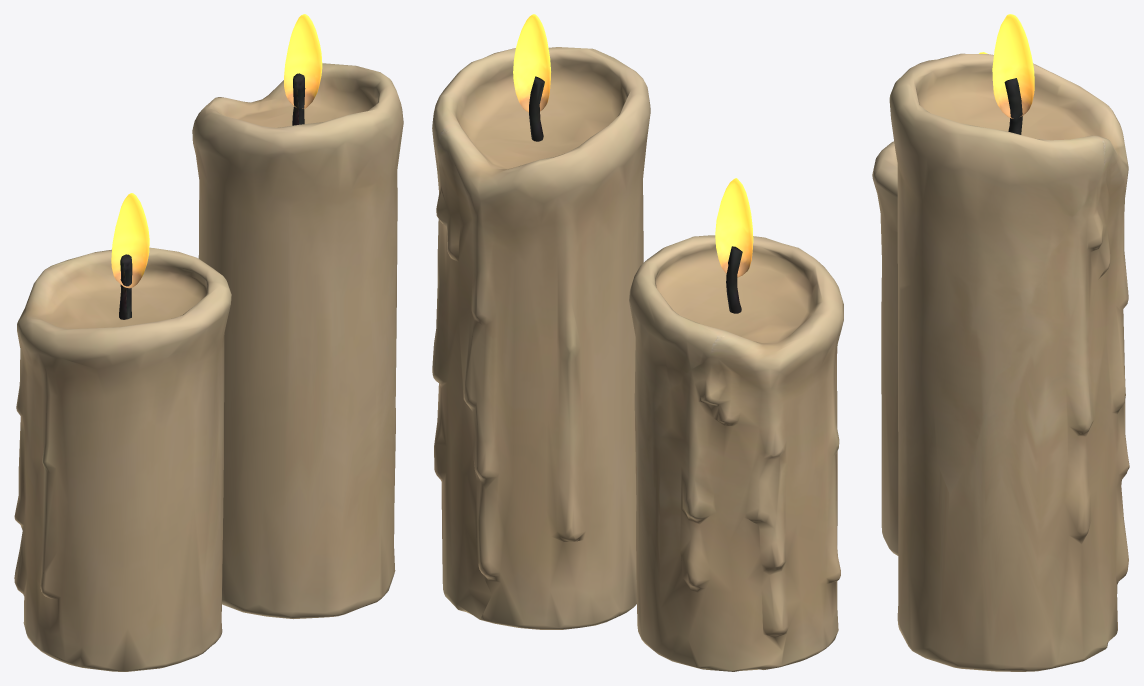
The model's file is velas.glb.
3 renders of one model, left to right at view 1: azimuth 30°, elevation 25°; view 2: azimuth 150°, elevation 25°; view 3: azimuth 270°, elevation 25°, orthographic. The views are drawn at different scales.
Parts seen in each view (by area): view 1: candles_03_Decimated_Material #26_0, CandleFlame_Material #25_0; view 2: candles_03_Decimated_Material #26_0, CandleFlame_Material #25_0; view 3: candles_03_Decimated_Material #26_0, CandleFlame_Material #25_0.
Part boxes in pixels (x1,y1,x2,y2): candles_03_Decimated_Material #26_0: (14, 63, 403, 671); CandleFlame_Material #25_0: (111, 14, 322, 288); candles_03_Decimated_Material #26_0: (432, 47, 843, 671); CandleFlame_Material #25_0: (513, 14, 753, 277); candles_03_Decimated_Material #26_0: (872, 53, 1129, 671); CandleFlame_Material #25_0: (979, 14, 1034, 118).
Bounding box in the file's own units: 2.66 × 3.94 × 1.47.
2 materials, 1 textured.
